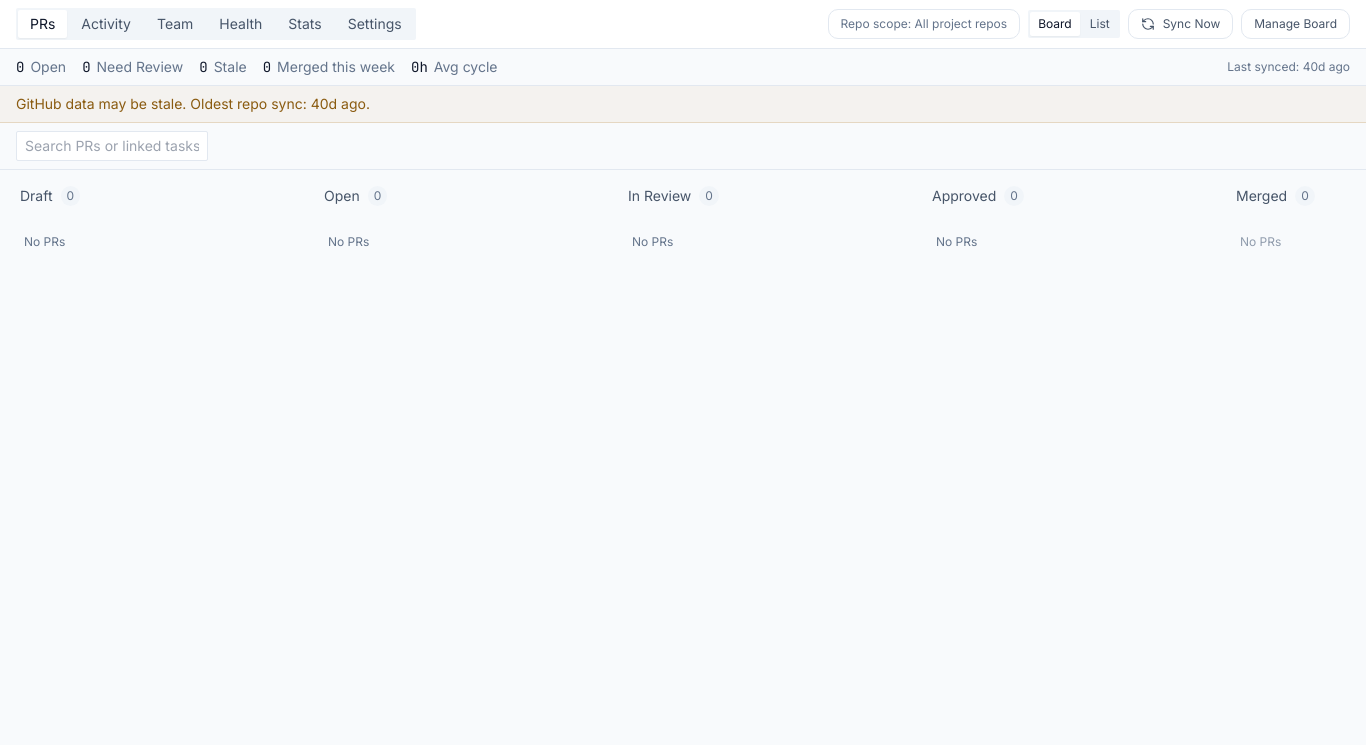
GitHubBoardPage › stays in Settings after later repo scope changes
Click the button "Settings" at point(375, 24), box x1=336 y1=10 x2=414 y2=38
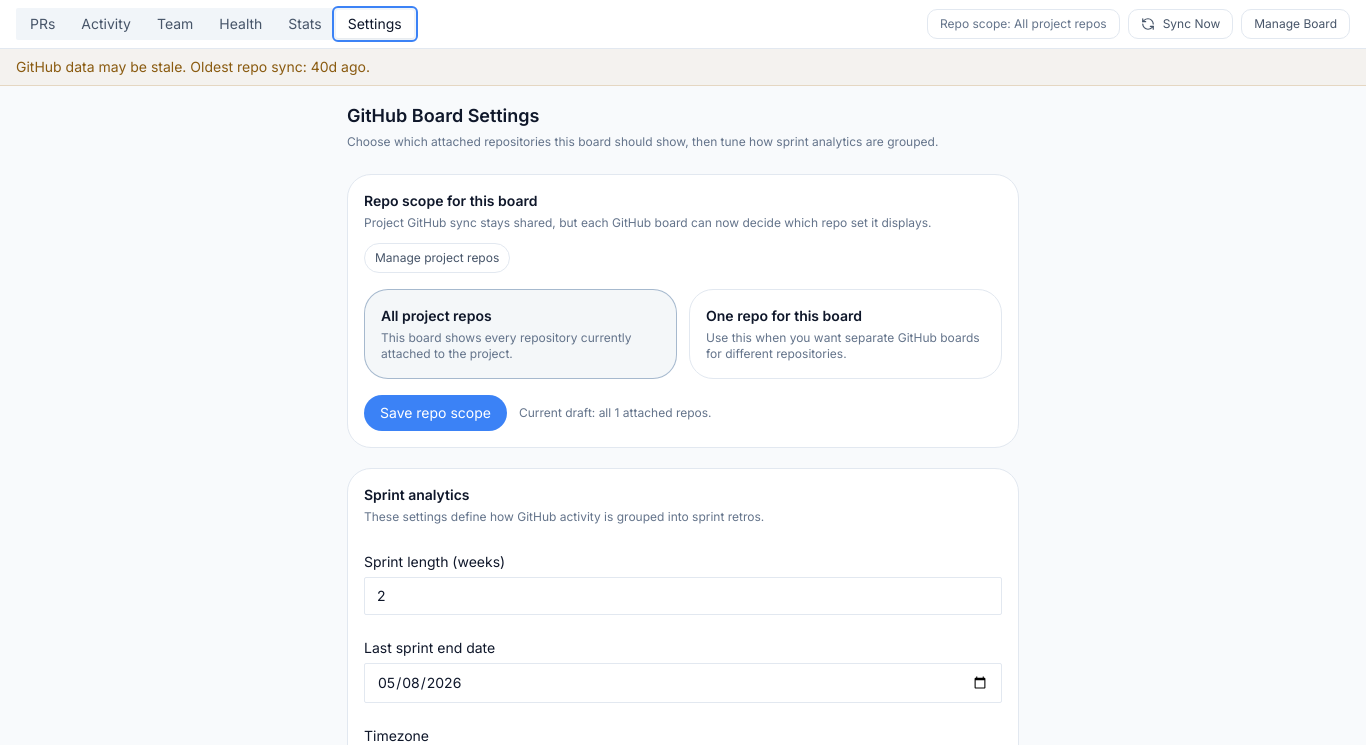
Expected: the heading "GitHub Board Settings" is shown, x1=347 y1=105 x2=540 y2=126
Click the button "One repo for this board" at point(846, 334), box x1=689 y1=289 x2=1002 y2=379
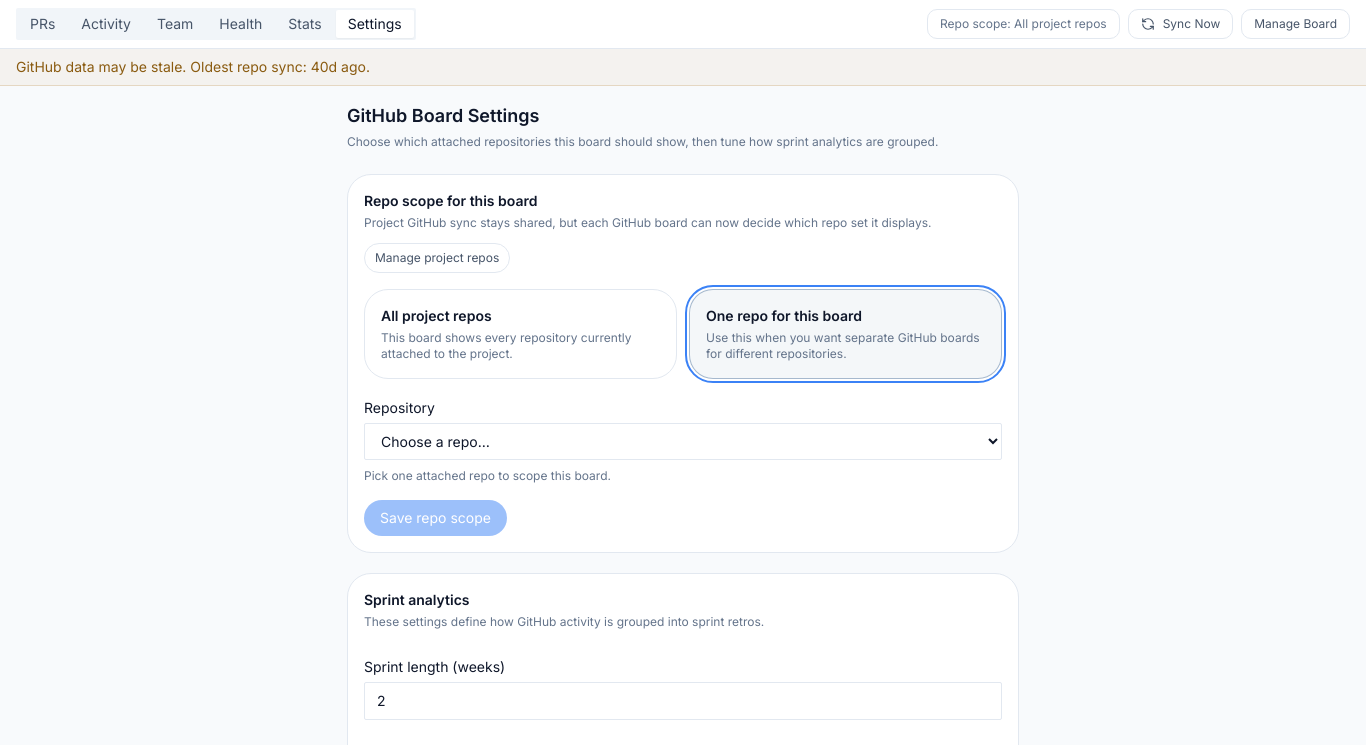
Select "acme/repo-one" in the dropdown labelled "Repository" at point(683, 442), box x1=364 y1=423 x2=1002 y2=460
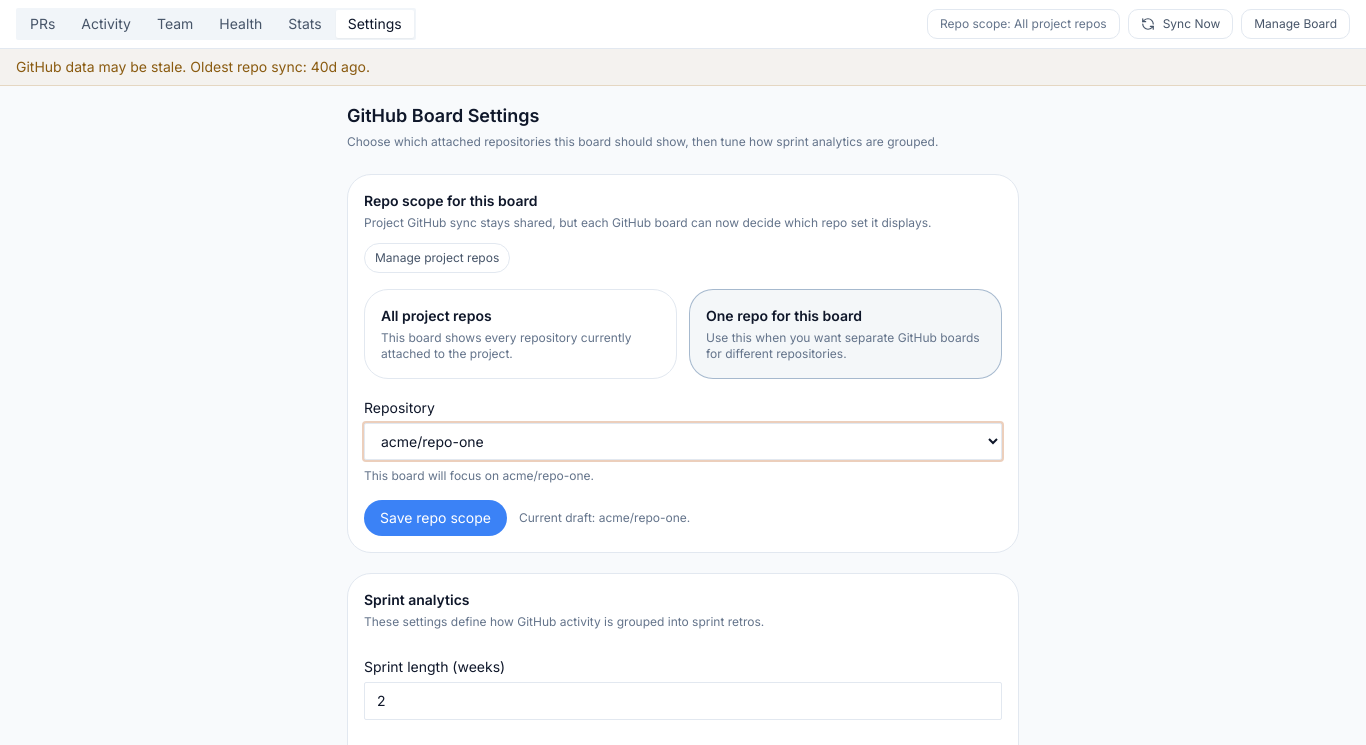
Click the button "Save repo scope" at point(436, 518), box x1=364 y1=500 x2=507 y2=536
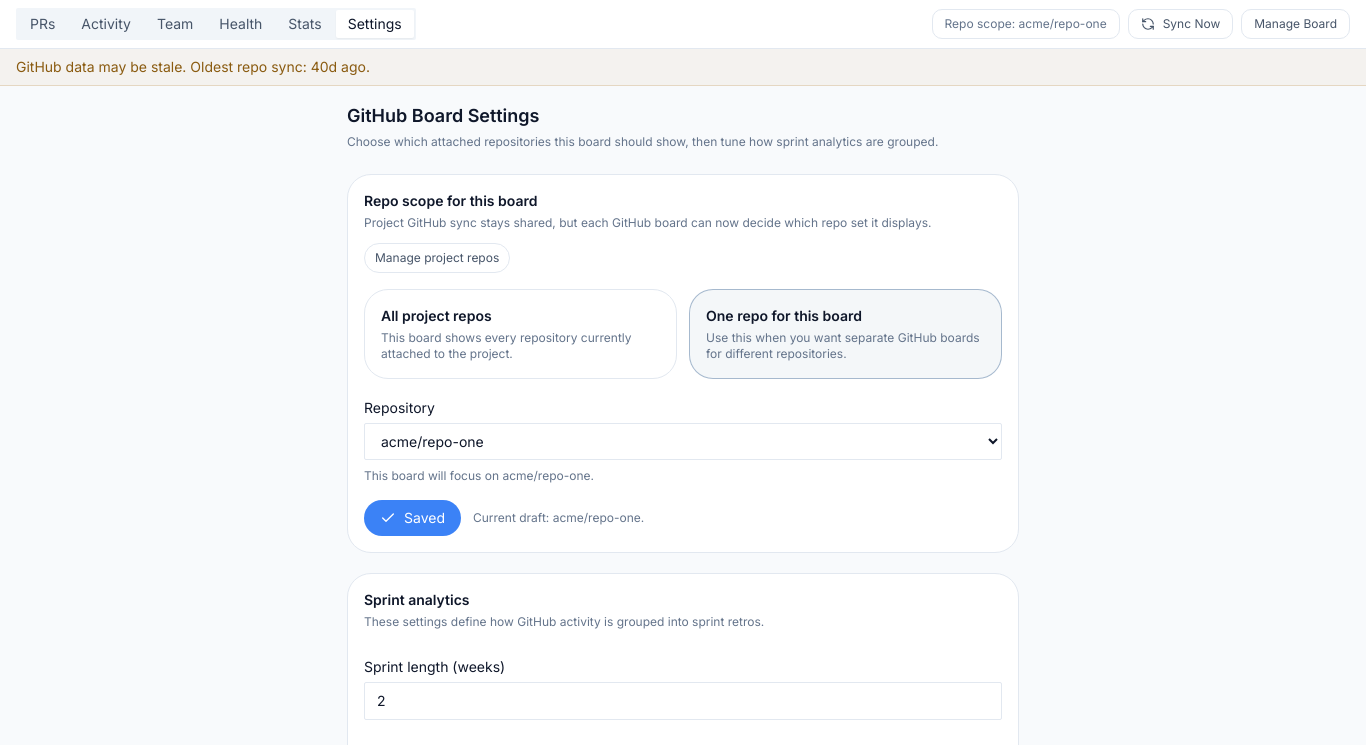
Expected: the text "No PRs" is not shown
Expected: the heading "GitHub Board Settings" is shown, x1=347 y1=105 x2=540 y2=126
Expected: the text "Repo scope: acme/repo-one" is shown, x1=932 y1=9 x2=1120 y2=39
